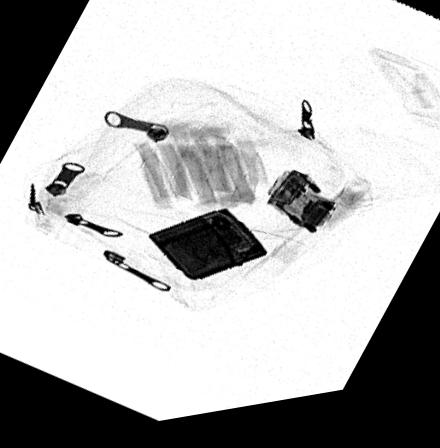Lighter: (146, 216, 268, 287)
